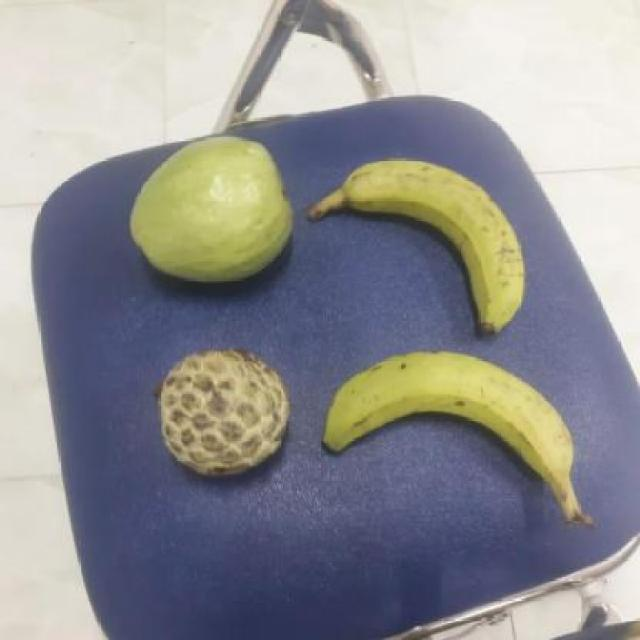banana: (310, 355, 573, 509), (299, 161, 523, 336)
guava: (127, 131, 295, 282)
sugar apple: (144, 349, 288, 477)
